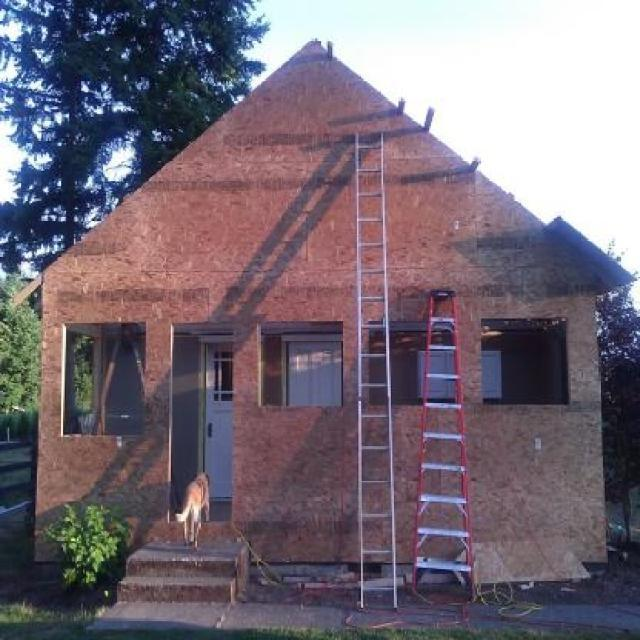stair: (117, 540, 251, 603)
